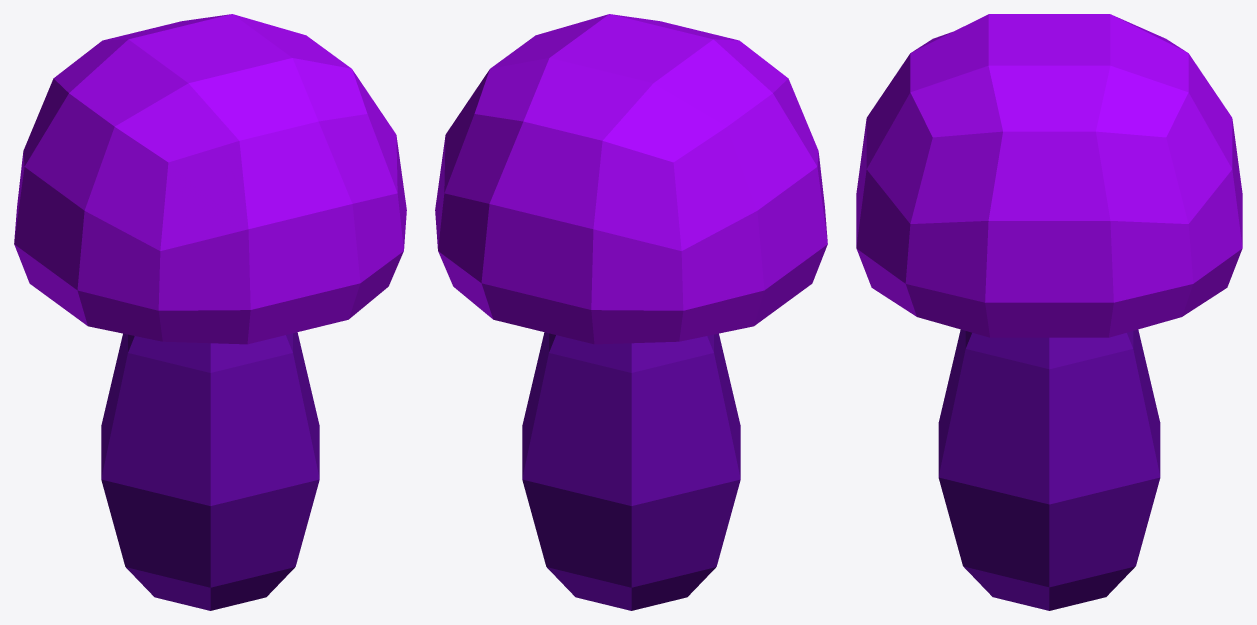
The model's file is glowshroom.fbx.
The picture shows the model from 3 angles, left to right: view 1: azimuth 30°, elevation 25°; view 2: azimuth 150°, elevation 25°; view 3: azimuth 270°, elevation 25°; orthographic projection.
Visible parts, largest first — view 1: Untitled_1:Glowshroom; view 2: Untitled_1:Glowshroom; view 3: Untitled_1:Glowshroom.
Part boxes in pixels (x1,y1,x2,y2): Untitled_1:Glowshroom: (14, 14, 406, 610); Untitled_1:Glowshroom: (435, 14, 827, 610); Untitled_1:Glowshroom: (856, 14, 1242, 610).
Bounding box in the file's own units: 1.52 × 2.36 × 1.52.
